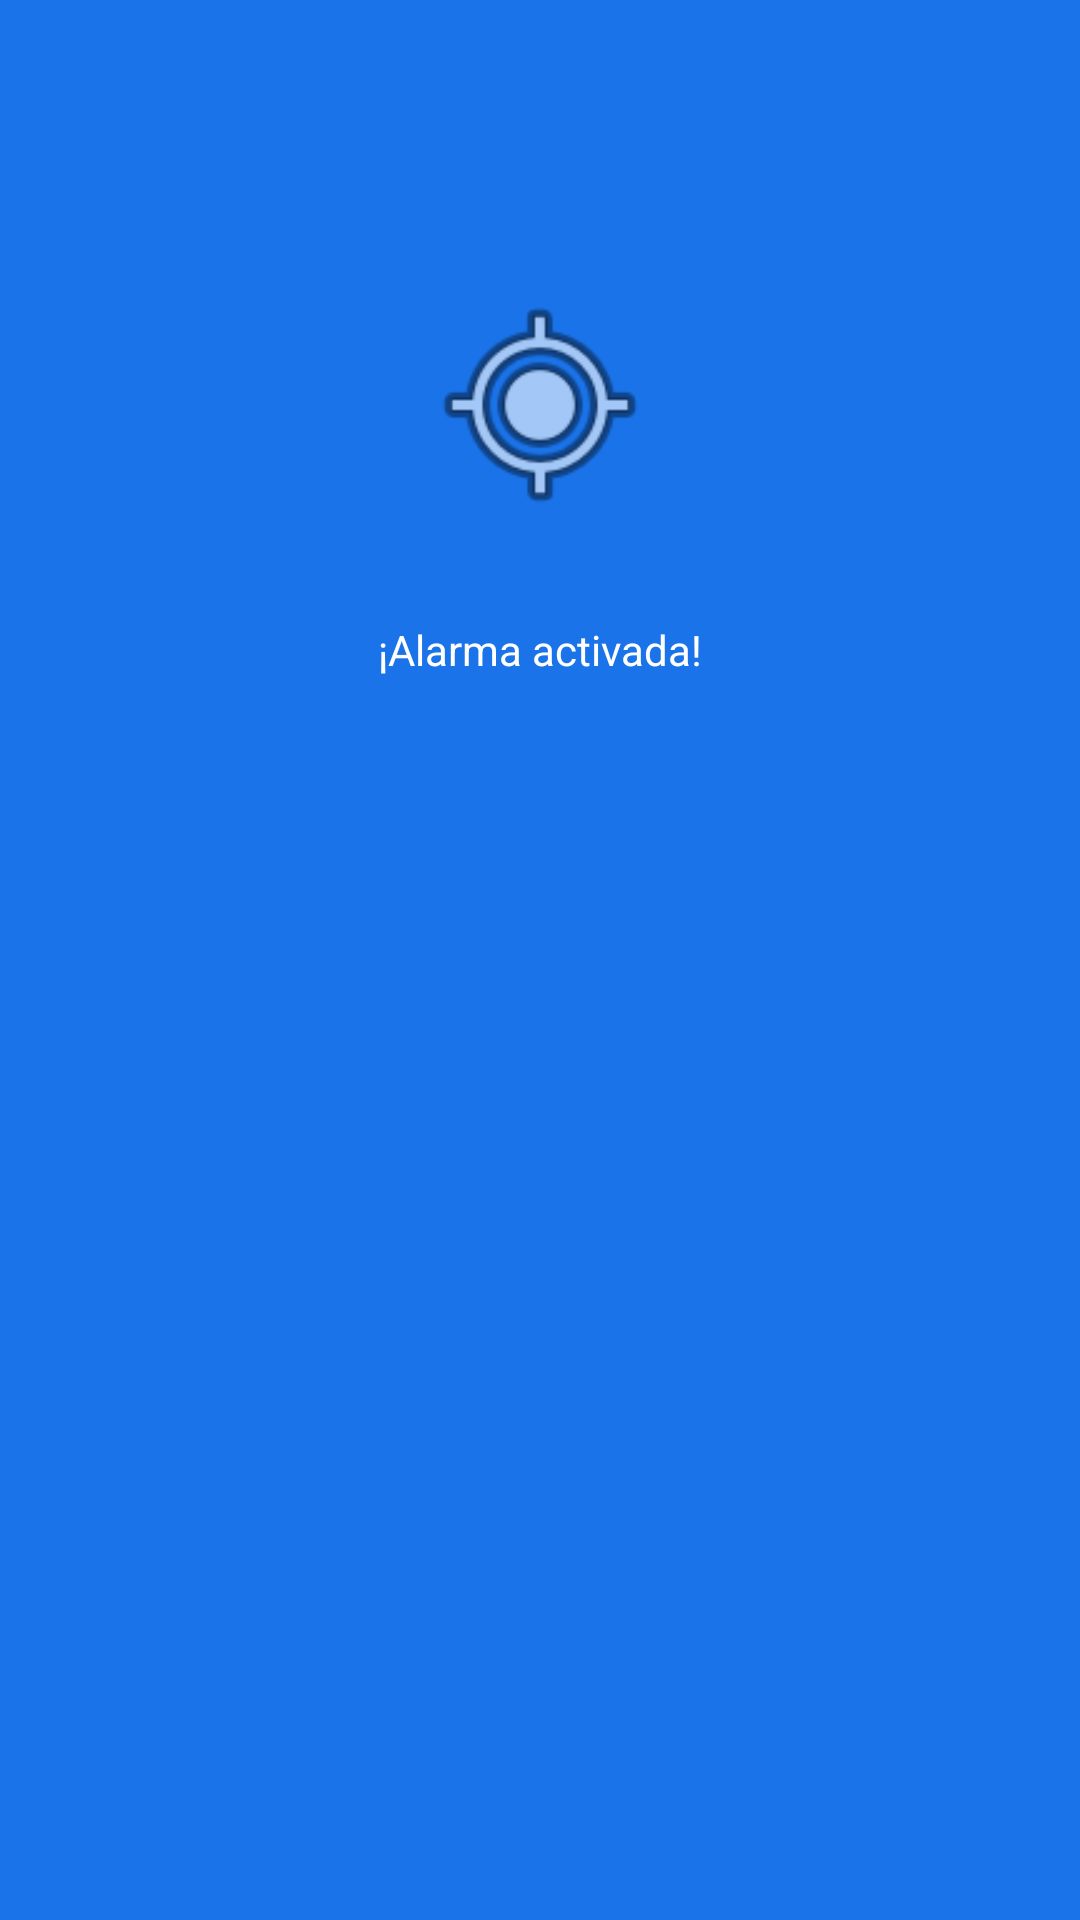

Icon click points for this 1080 × 1920 phone screenshot, format [x,y]:
mylocation: [540,405]
